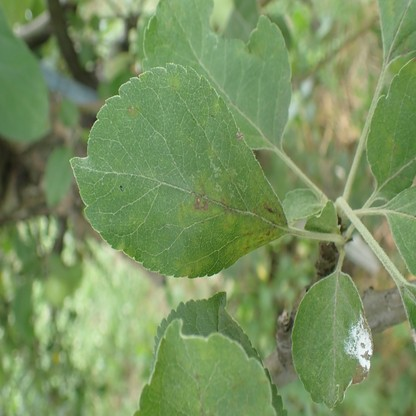powdery_mildew: (344, 310, 372, 369)
scab: (228, 200, 286, 255), (176, 173, 225, 228), (173, 251, 213, 274), (194, 373, 207, 416), (126, 98, 139, 121), (226, 208, 237, 234), (166, 76, 180, 90), (232, 384, 237, 391)
